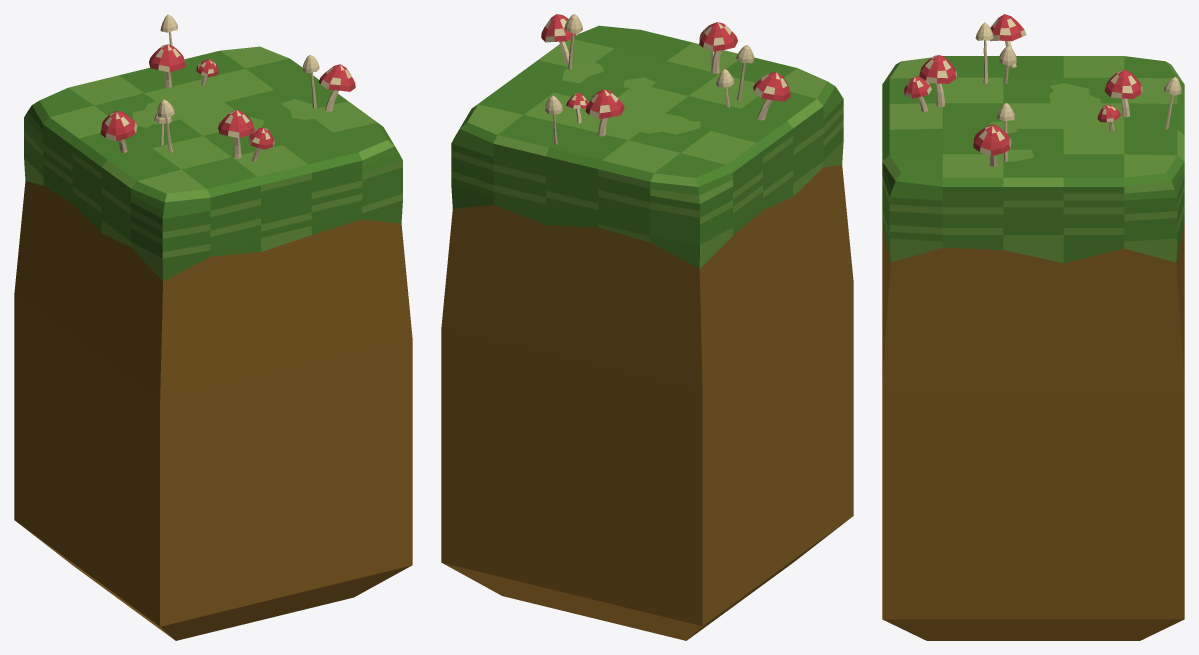
File: GrassTilePlaceHolderC.fbx
3 views of the same model, side by side, from view 1: azimuth 30°, elevation 25°; view 2: azimuth 150°, elevation 25°; view 3: azimuth 270°, elevation 25° (orthographic). The views are drawn at different scales.
Visible parts, largest first — view 1: Cube, Sphere; view 2: Cube, Sphere; view 3: Cube, Sphere.
Boxes of the visible parts, box(x1,y1,x2,y2) form: Cube: box(14, 46, 412, 640); Sphere: box(100, 14, 355, 161); Cube: box(441, 25, 853, 640); Sphere: box(541, 14, 790, 144); Cube: box(882, 56, 1184, 640); Sphere: box(904, 14, 1181, 166).
Size of the model in its own units: 400 by 783 by 400.
